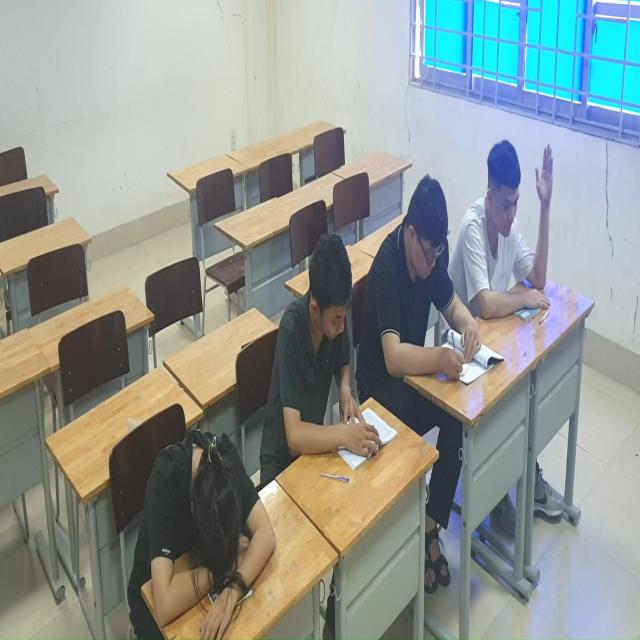raise_hand: (470, 129, 559, 329)
read: (267, 224, 400, 475), (373, 178, 505, 389)
sleep: (119, 424, 295, 639)
